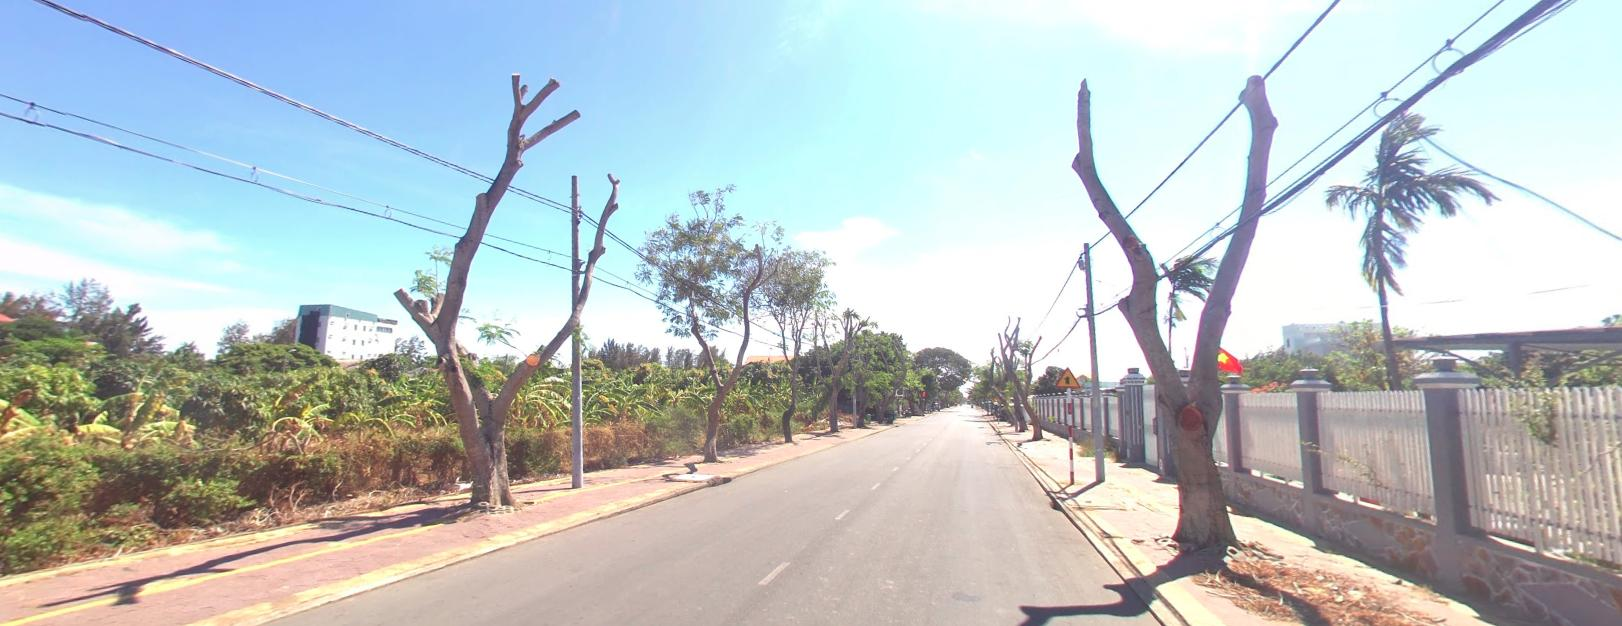Nguy hiem: (1054, 364, 1082, 388)
